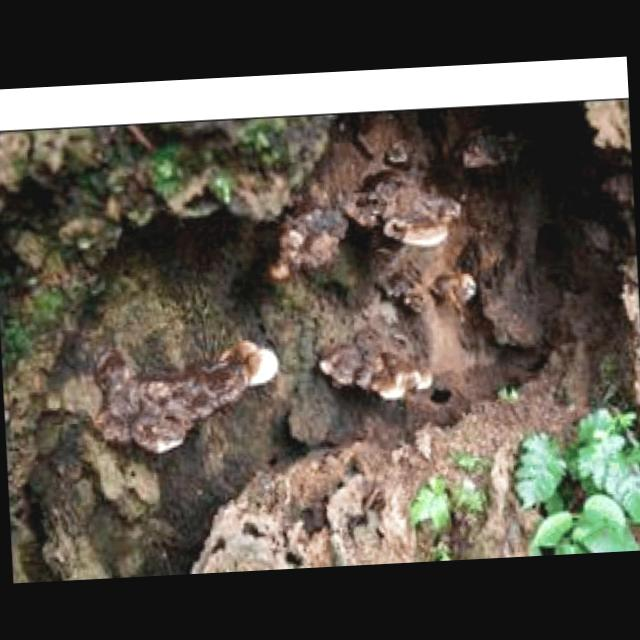ganoderma: (91, 343, 235, 460), (315, 321, 438, 407), (348, 174, 468, 254)
primordium: (226, 338, 285, 389)
